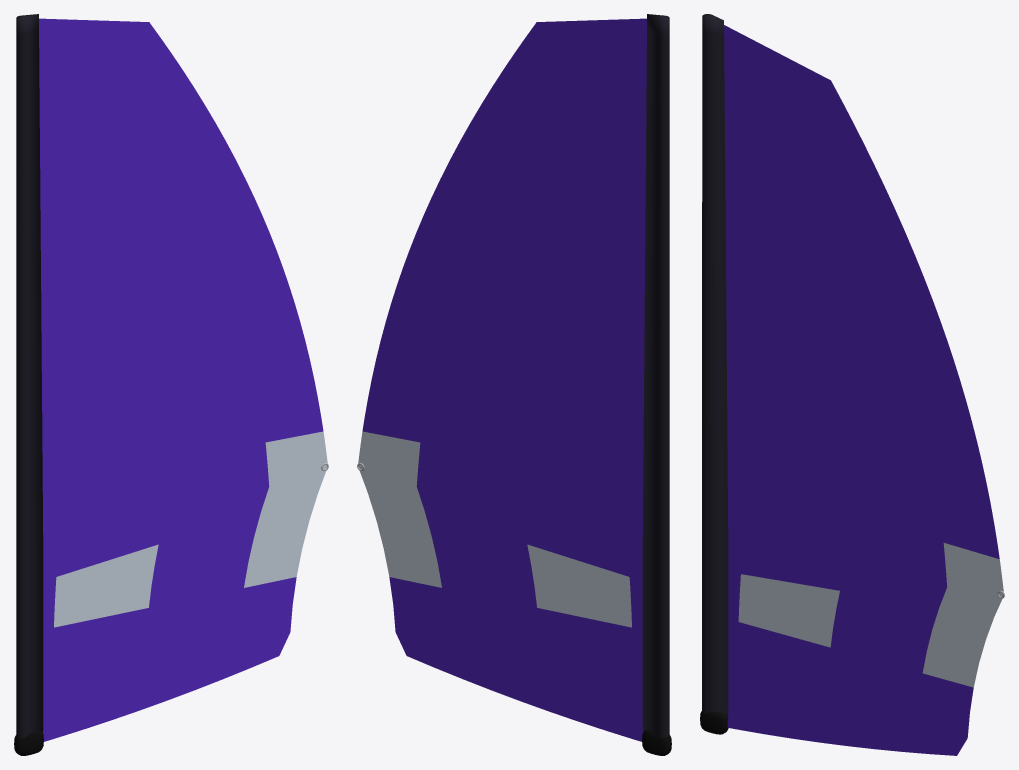
Rendered from gg_sails_freerace_7_2.glb.
3 renders of one model, left to right at view 1: azimuth 30°, elevation 25°; view 2: azimuth 150°, elevation 25°; view 3: azimuth 330°, elevation 25°, orthographic. The views are drawn at different scales.
Visible parts, largest first — view 1: SailCloth, TackFairing; view 2: SailCloth, TackFairing; view 3: SailCloth, TackFairing.
Boxes of the visible parts, box(x1,y1,x2,y2) form: SailCloth: box(16, 14, 327, 741); TackFairing: box(14, 729, 43, 755); SailCloth: box(358, 14, 669, 741); TackFairing: box(642, 729, 671, 755); SailCloth: box(702, 14, 1003, 755); TackFairing: box(700, 711, 728, 734).
Bounding box in the file's own units: 2.07 × 4.67 × 0.08.
